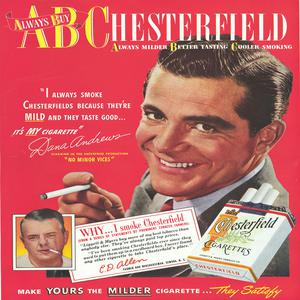cigarette: (35, 179, 95, 203), (47, 248, 64, 257)
